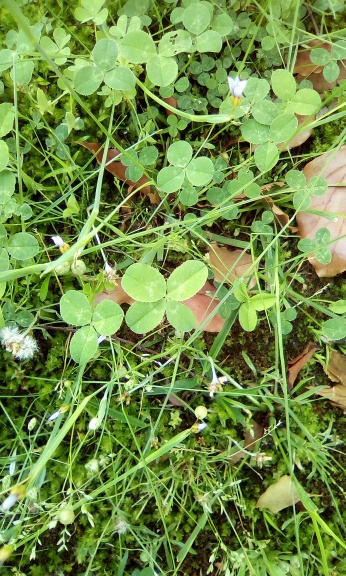4leaf: (119, 258, 209, 335)
